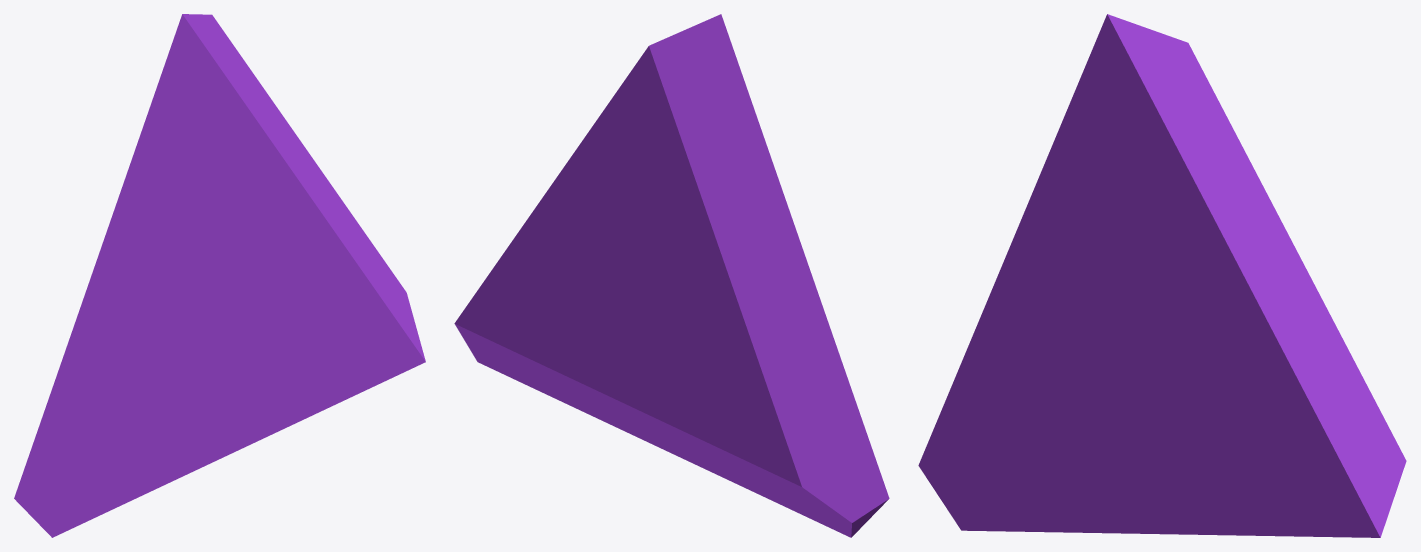
File: Window_8_4_chunks.fbx
3 views of the same model, side by side, from view 1: azimuth 30°, elevation 25°; view 2: azimuth 150°, elevation 25°; view 3: azimuth 330°, elevation 25° (orthographic). The views are drawn at different scales.
Visible parts, largest first — view 1: Window_8_4_0; view 2: Window_8_4_0; view 3: Window_8_4_0.
Part boxes in pixels (x1,y1,x2,y2): Window_8_4_0: (14,14,425,537); Window_8_4_0: (454,14,889,537); Window_8_4_0: (918,14,1406,537).
Bounding box in the file's own units: 307 × 348 × 27.2.
